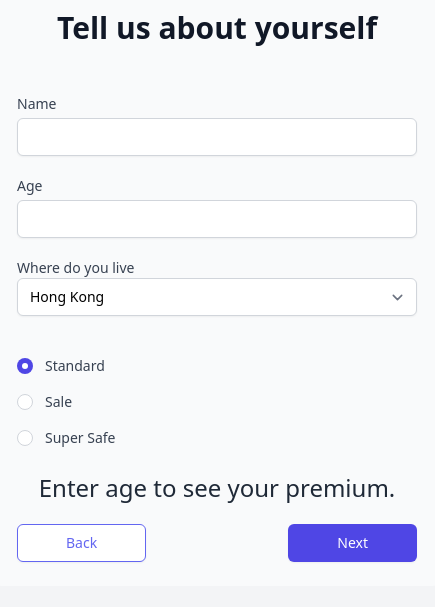
Start Page Spec › Visit start page with NO name and with age › Should show name is required
The width and height of the screenshot is (435, 607).
Type "50" into the number field named "age". click: point(217, 219)
box: [17,200,417,238]
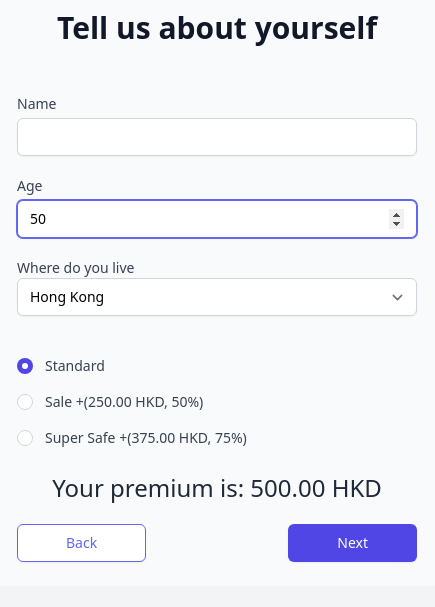
Click the button "Next". click: point(353, 543)
box: [288,524,417,562]
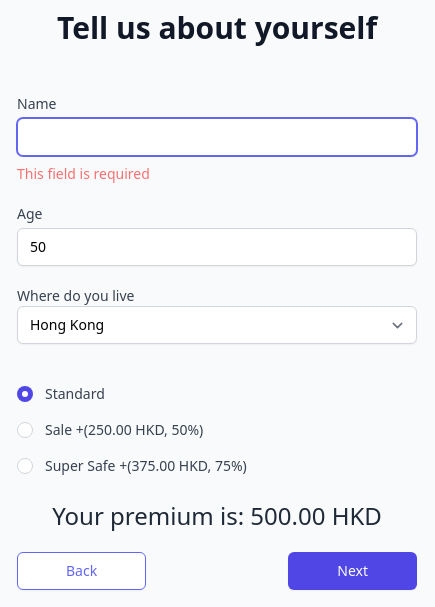
expect the text with id "name" reads "This field is required": met, box [17,164,150,183]
